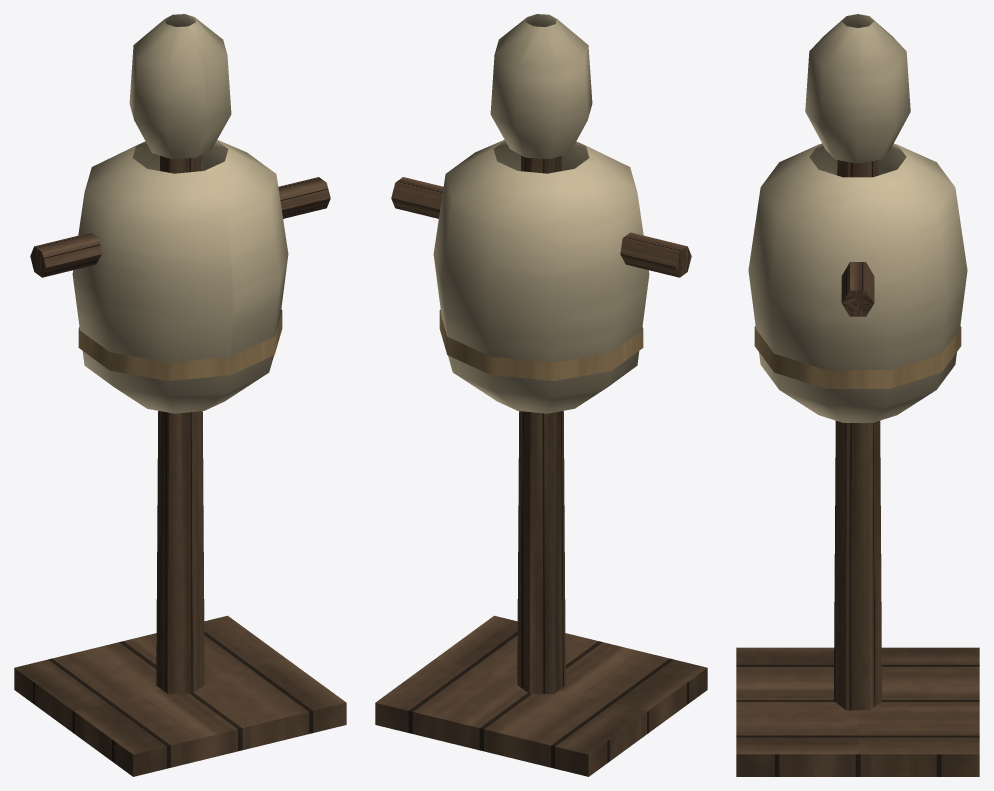
Rendered from Dummy.gltf.
The picture shows the model from 3 angles, left to right: view 1: azimuth 30°, elevation 25°; view 2: azimuth 150°, elevation 25°; view 3: azimuth 270°, elevation 25°; orthographic projection. The views are drawn at different scales.
Parts seen in each view (by area): view 1: Dummy; view 2: Dummy; view 3: Dummy.
Part boxes in pixels (x1,y1,x2,y2): Dummy: [14, 14, 346, 776]; Dummy: [375, 14, 707, 776]; Dummy: [736, 14, 979, 776].
Size of the model in its own units: 0.808 by 1.86 by 0.585.
3 materials, 3 textured.
